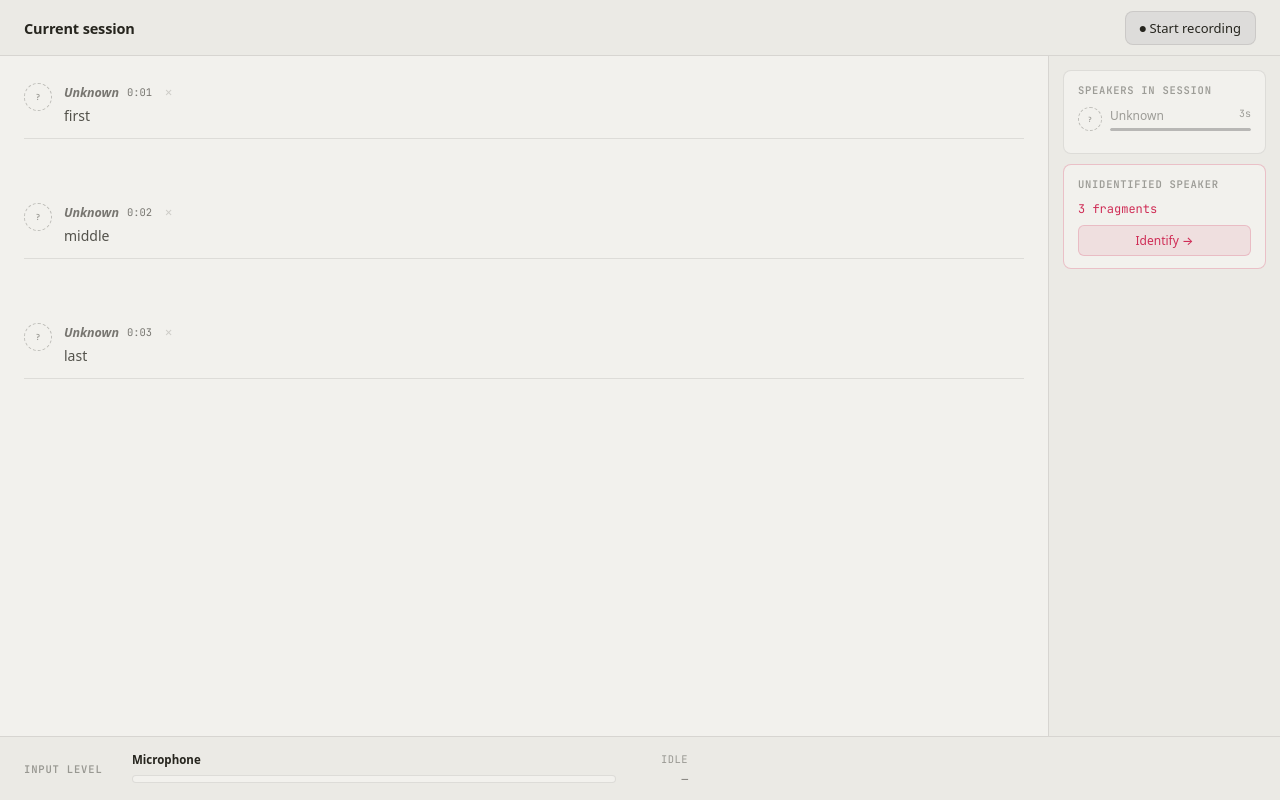
Test: CurrentSession utterance deletion › removes the selected persisted row immediately without leaving later rows behind a gap
Click the button with test id "delete-utt-utt-2".
click(169, 212)  # box top-left (160, 203), bottom-right (177, 221)
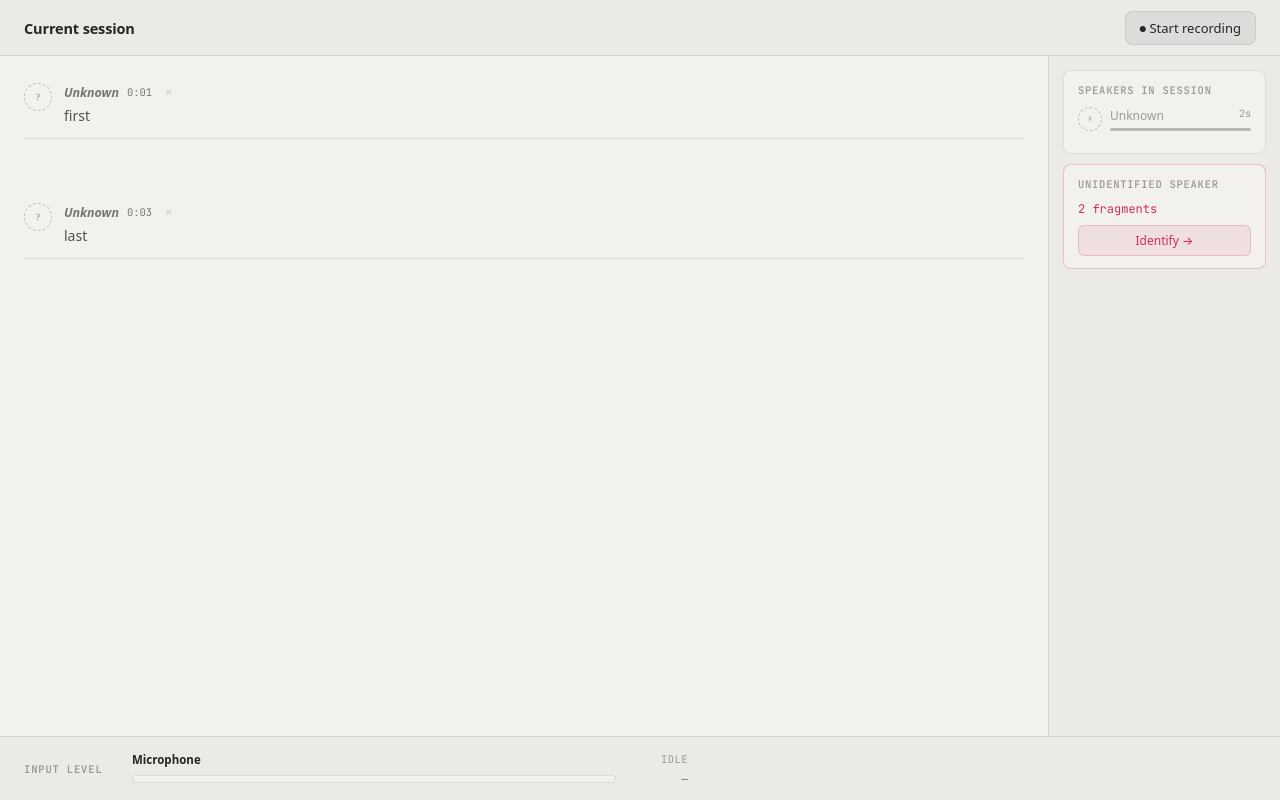
Expected: the element with test id "utterance-utt-1" shows "first", top-left (64, 106), bottom-right (90, 125)
Expected: the element with test id "utterance-utt-2" is gone
